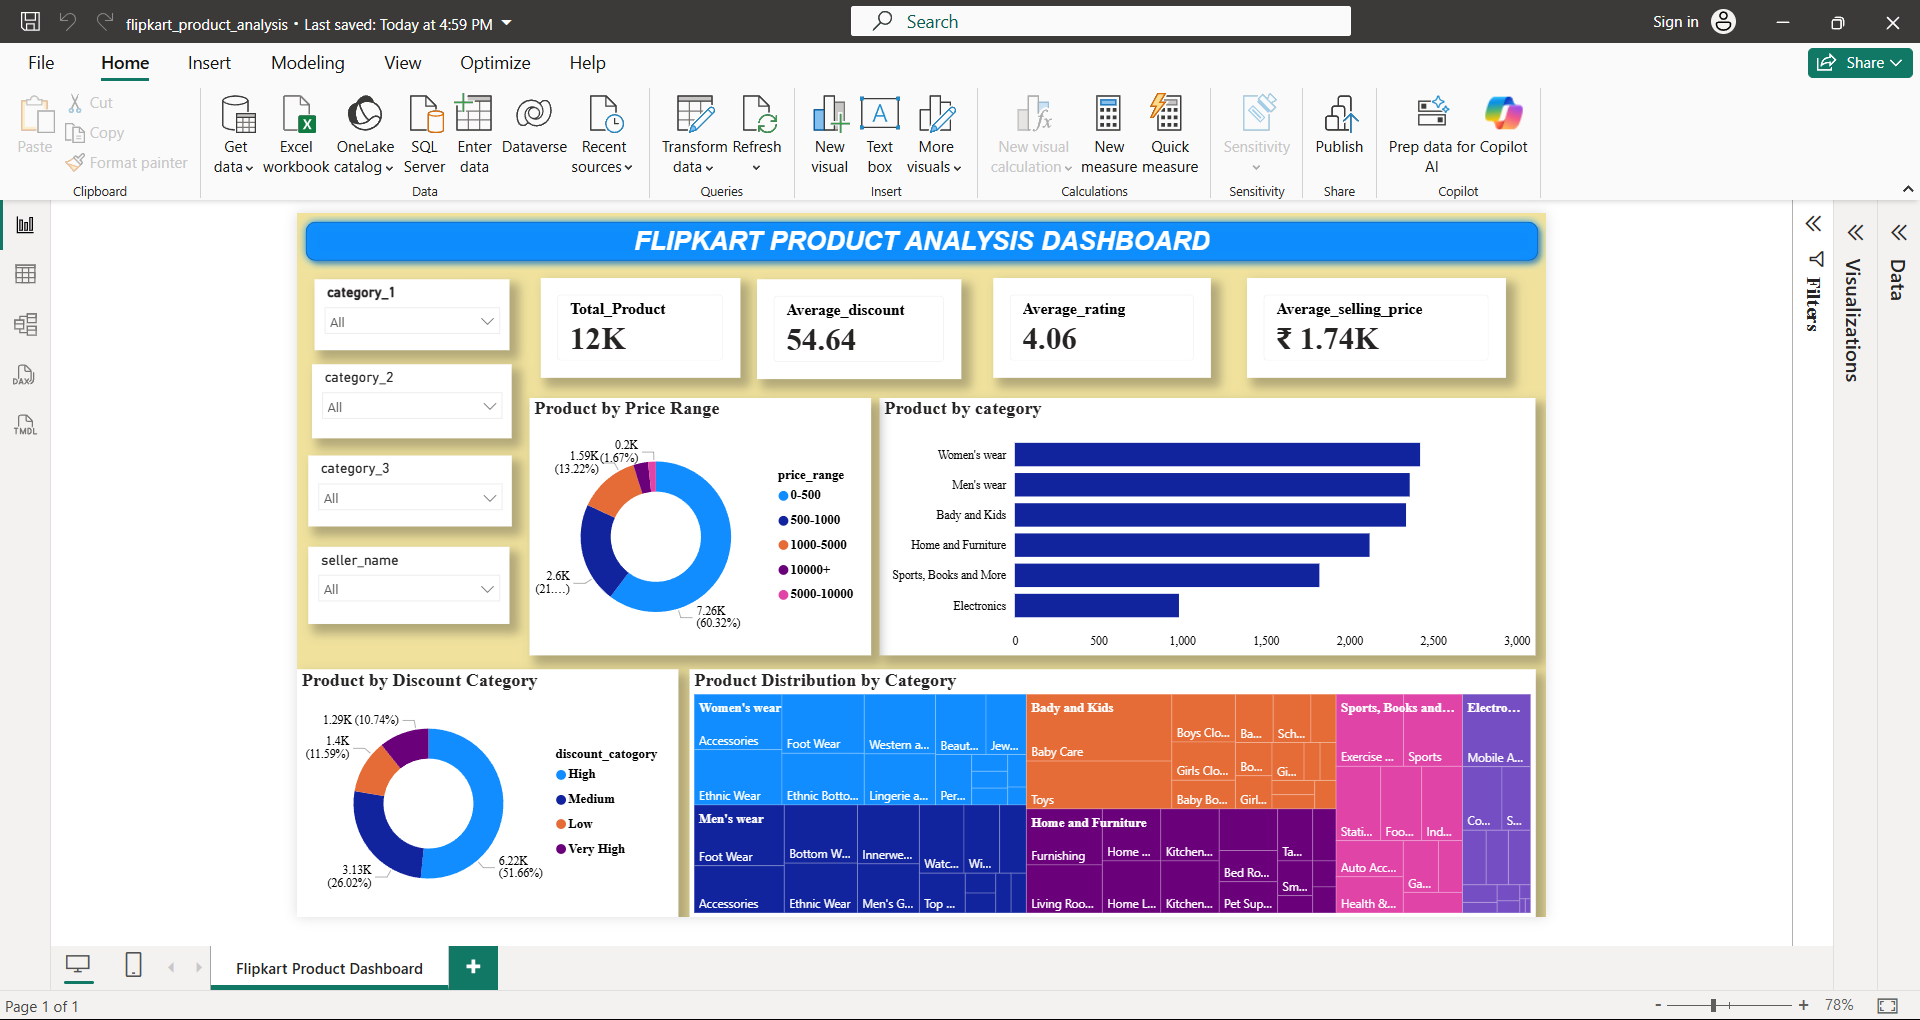

This screenshot's page, from the dashboard's own definition file:
{"tool":"powerbi","page":{"name":"Flipkart Product Dashboard","canvas":[1282,723],"ordinal":0},"visuals":[{"type":"shape","box":[0,0,1282,58],"z":0},{"type":"cardVisual","fields":{"Data":["dataset.Total_Product"]},"box":[250.6,66.7,204.9,102.5],"z":1000},{"type":"cardVisual","fields":{"Data":["dataset.Average_discount"]},"box":[471.6,67.9,209.9,102.5],"z":2000},{"type":"cardVisual","fields":{"Data":["dataset.Average_rating"]},"box":[713.6,66.7,223.5,102.5],"z":3000},{"type":"cardVisual","fields":{"Data":["dataset.Average_selling_price"]},"box":[974.1,66.7,265.4,102.5],"z":4000},{"type":"slicer","fields":{"Values":["dataset.category_1"]},"box":[17.9,67.9,200,73.1],"z":5000},{"type":"slicer","fields":{"Values":["dataset.category_2"]},"box":[15.4,155.1,205.1,75.6],"z":6000},{"type":"slicer","fields":{"Values":["dataset.category_3"]},"box":[11.5,248.7,209,73.1],"z":7000},{"type":"slicer","fields":{"Values":["dataset.seller_name"]},"box":[11.5,342.3,206.4,79.5],"z":8000},{"type":"clusteredBarChart","title":"Product by category","fields":{"Category":["dataset.category_1"],"Y":["CountNonNull(dataset.title)"]},"box":[597.5,190.1,672.8,264.2],"z":9000},{"type":"donutChart","title":"Product by Price Range","fields":{"Category":["dataset.price_range"],"Y":["CountNonNull(dataset.title)"]},"box":[238.3,190.1,350.6,264.2],"z":10000},{"type":"donutChart","title":"Product by Discount Category","fields":{"Category":["dataset.discount_cat"],"Y":["CountNonNull(dataset.title)"]},"box":[0,467.9,391,255.1],"z":11000},{"type":"treemap","title":"Product Distribution by Category","fields":{"Group":["dataset.category_1"],"Values":["CountNonNull(dataset.title)"],"Details":["dataset.category_2"]},"box":[402.6,467.9,867.9,255.1],"z":12000}]}

Visuals, with their boxes on the page's 1282x723 design canvas (x1, y1, x2, y2). These are canvas units, not pixel positions in the 1920x1020 screenshot, which may show the page scaled, cropped or inside an application window:
shape: Rect(0, 0, 1282, 58)
cardVisual - dataset.Total_Product: Rect(251, 67, 456, 169)
cardVisual - dataset.Average_discount: Rect(472, 68, 682, 170)
cardVisual - dataset.Average_rating: Rect(714, 67, 937, 169)
cardVisual - dataset.Average_selling_price: Rect(974, 67, 1240, 169)
slicer - dataset.category_1: Rect(18, 68, 218, 141)
slicer - dataset.category_2: Rect(15, 155, 220, 231)
slicer - dataset.category_3: Rect(12, 249, 220, 322)
slicer - dataset.seller_name: Rect(12, 342, 218, 422)
"Product by category" clusteredBarChart: Rect(598, 190, 1270, 454)
"Product by Price Range" donutChart: Rect(238, 190, 589, 454)
"Product by Discount Category" donutChart: Rect(0, 468, 391, 723)
"Product Distribution by Category" treemap: Rect(403, 468, 1270, 723)
